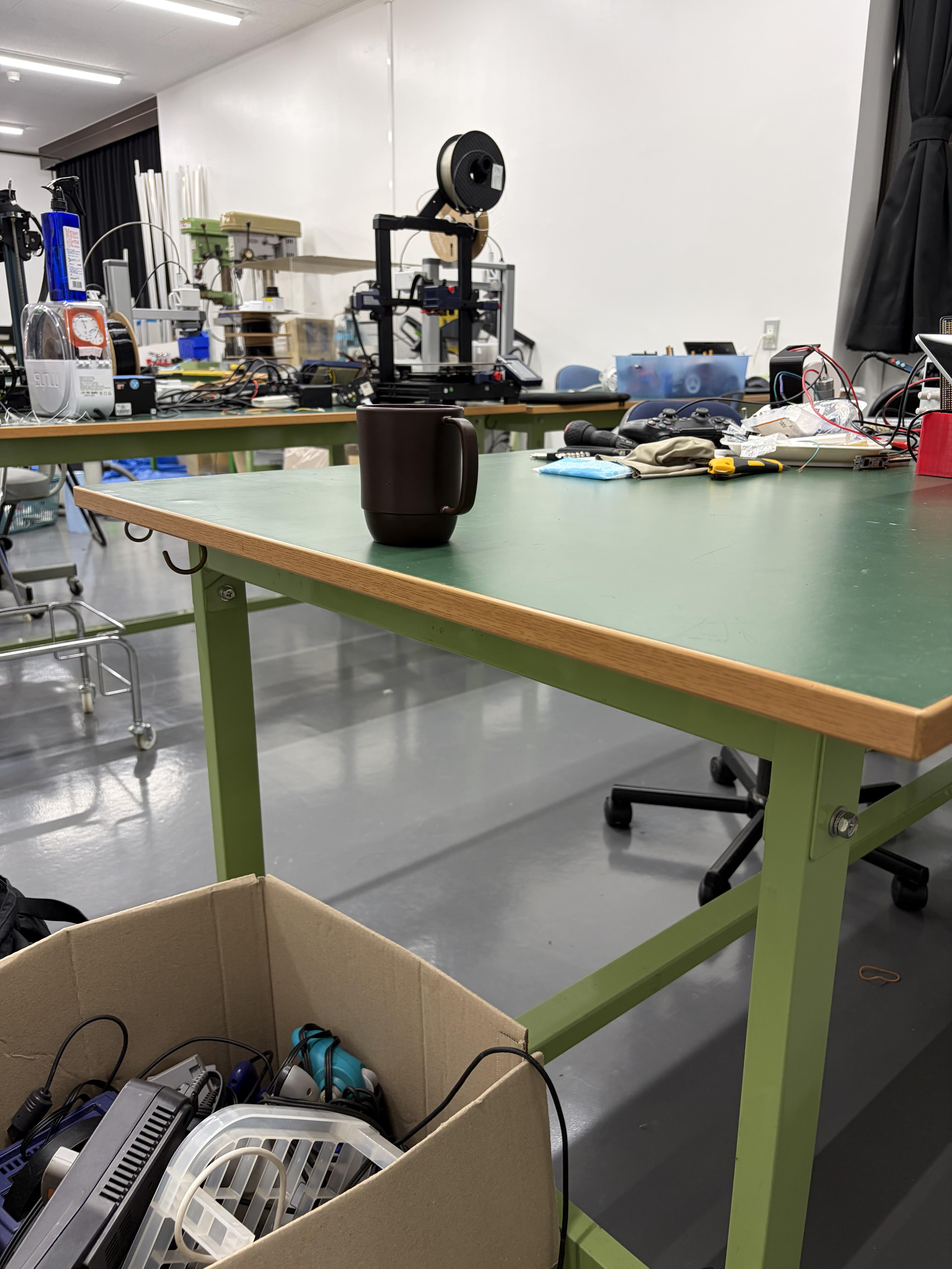mug-real100-3d100: (356, 403, 479, 546)
